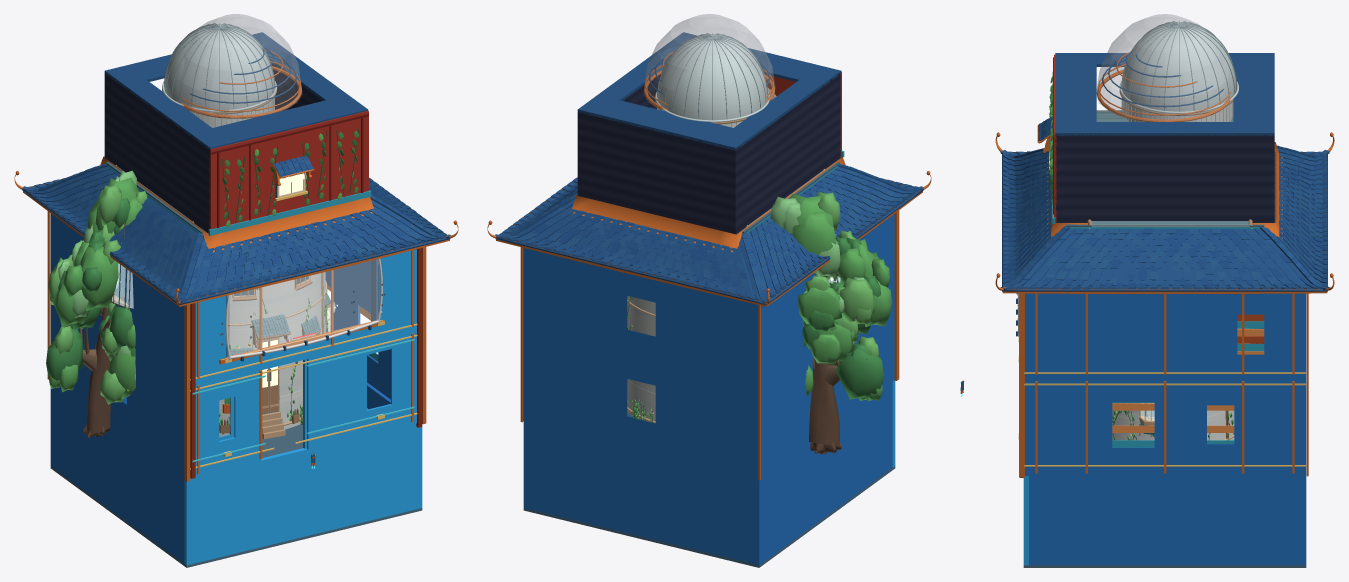
Rendered from exterior-home-BxcxAJfk.glb.
3 renders of one model, left to right at view 1: azimuth 30°, elevation 25°; view 2: azimuth 150°, elevation 25°; view 3: azimuth 270°, elevation 25°, orthographic. The views are drawn at different scales.
Parts seen in each view (by area): view 1: INT_Foundation_Front, WallFront, EXT_RoofHip_Shingles, TREE_Left_Foliage, WallLeft, INT_Foundation_Left, ObsDome, ObsFront, CUTAWAY_UpperOpening_Glass, ObsLeft, ObsDome_Curved, EXT_RoofHip_Body (+23 smaller); view 2: WallBack, INT_Foundation_Back, EXT_RoofHip_Shingles, TREE_Left_Foliage, ObsBack, INT_Foundation_Left, WallLeft, ObsLeft, ObsDome_Curved, ObsDome, EXT_RoofHip_Body, EXT_ObservatoryRoof_Back (+10 smaller); view 3: WallRight, EXT_RoofHip_Shingles, INT_Foundation_Right, ObsRight, ObsDome, ObsDome_Curved, EXT_RoofHip_Body, EXT_ObservatoryRoof_Front, EXT_ObservatoryRoof_Back, EXT_ObservatoryRoof_Right, EXT_RoofHip_RidgeCaps, EXT_RoofHip_Fascia (+15 smaller).
Boxes of the visible parts, x1=… form: INT_Foundation_Front: x1=184, y1=423, x2=422, y2=565; WallFront: x1=190, y1=249, x2=416, y2=478; EXT_RoofHip_Shingles: x1=25, y1=167, x2=447, y2=301; TREE_Left_Foliage: x1=46, y1=170, x2=147, y2=404; WallLeft: x1=50, y1=213, x2=184, y2=476; INT_Foundation_Left: x1=53, y1=386, x2=184, y2=563; ObsDome: x1=178, y1=14, x2=302, y2=118; ObsFront: x1=209, y1=111, x2=368, y2=229; CUTAWAY_UpperOpening_Glass: x1=230, y1=259, x2=378, y2=355; ObsLeft: x1=104, y1=72, x2=209, y2=233; ObsDome_Curved: x1=164, y1=24, x2=274, y2=109; EXT_RoofHip_Body: x1=22, y1=169, x2=450, y2=305; WallBack: x1=525, y1=248, x2=758, y2=478; INT_Foundation_Back: x1=523, y1=421, x2=761, y2=565; EXT_RoofHip_Shingles: x1=499, y1=167, x2=920, y2=301; TREE_Left_Foliage: x1=770, y1=191, x2=891, y2=400; ObsBack: x1=577, y1=111, x2=735, y2=234; INT_Foundation_Left: x1=761, y1=381, x2=892, y2=563; WallLeft: x1=761, y1=214, x2=894, y2=477; ObsLeft: x1=735, y1=72, x2=840, y2=234; ObsDome_Curved: x1=657, y1=34, x2=767, y2=120; ObsDome: x1=643, y1=14, x2=775, y2=110; EXT_RoofHip_Body: x1=495, y1=169, x2=923, y2=305; EXT_ObservatoryRoof_Back: x1=577, y1=95, x2=755, y2=150; WallRight: x1=1025, y1=293, x2=1306, y2=475; EXT_RoofHip_Shingles: x1=1002, y1=148, x2=1327, y2=289; INT_Foundation_Right: x1=1029, y1=476, x2=1300, y2=565; ObsRight: x1=1055, y1=134, x2=1274, y2=222; ObsDome: x1=1096, y1=14, x2=1232, y2=121; ObsDome_Curved: x1=1122, y1=22, x2=1236, y2=111; EXT_RoofHip_Body: x1=1002, y1=152, x2=1327, y2=291; EXT_ObservatoryRoof_Front: x1=1055, y1=53, x2=1096, y2=135; EXT_ObservatoryRoof_Back: x1=1233, y1=53, x2=1274, y2=135; EXT_ObservatoryRoof_Right: x1=1096, y1=122, x2=1233, y2=135; EXT_RoofHip_RidgeCaps: x1=1000, y1=145, x2=1329, y2=290; EXT_RoofHip_Fascia: x1=1002, y1=152, x2=1327, y2=293.
Size of the model in its own units: 25.84 by 35.89 by 24.89.
